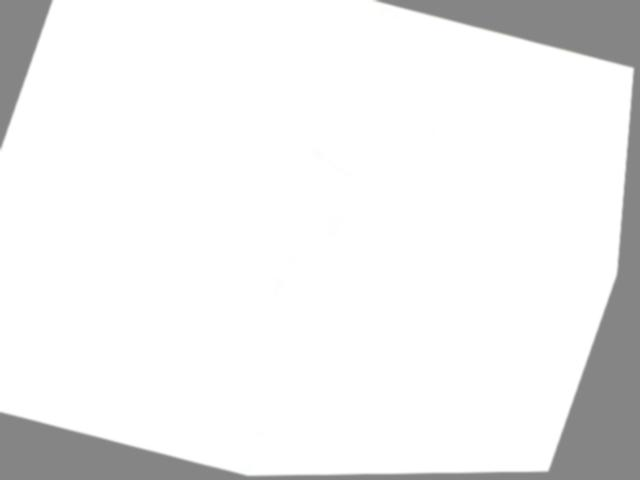iha: (0, 91, 592, 480)
